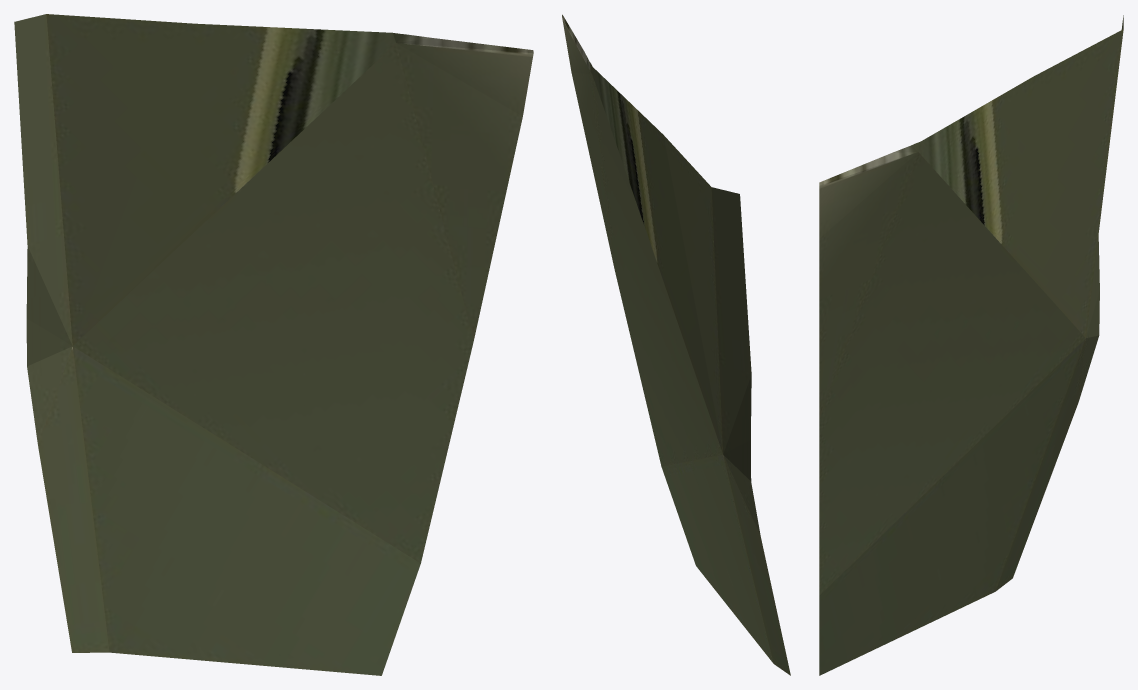
3 renders of one model, left to right at view 1: azimuth 30°, elevation 25°; view 2: azimuth 150°, elevation 25°; view 3: azimuth 270°, elevation 25°, orthographic. The views are drawn at different scales.
Size of the model in its own units: 1.89 by 2.95 by 1.44.
Materials: 2 (2 with a texture image).
